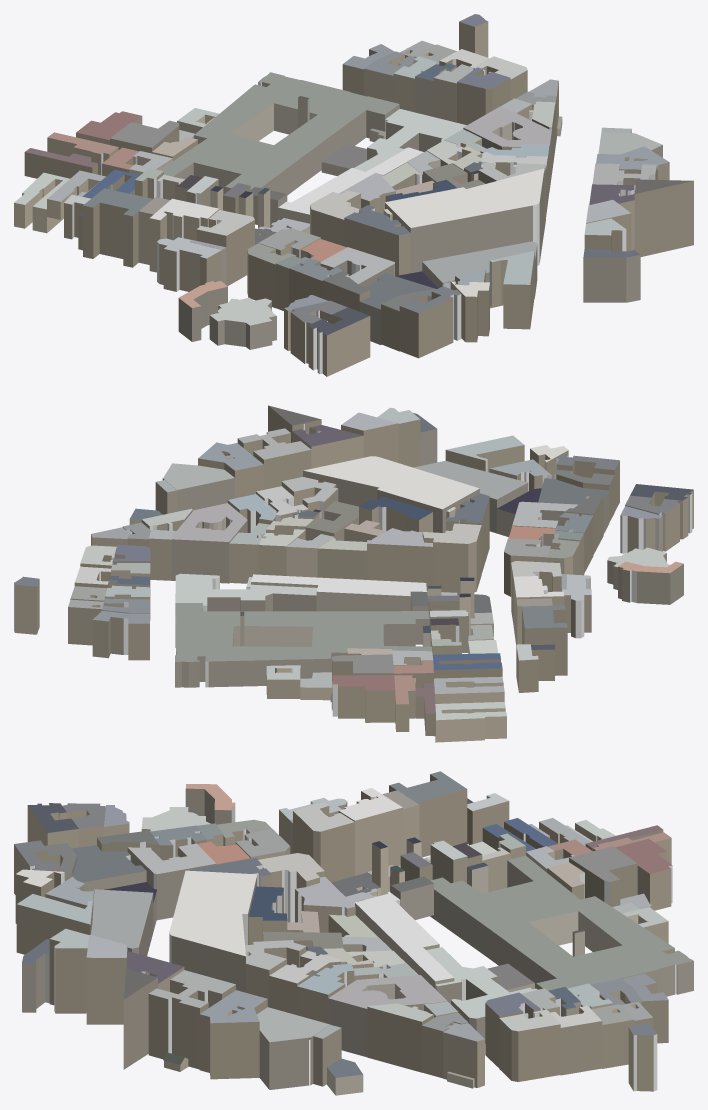
3 renders of one model, top to bottom at view 1: azimuth 30°, elevation 25°; view 2: azimuth 150°, elevation 25°; view 3: azimuth 270°, elevation 25°, orthographic. The views are drawn at different scales.
Parts seen in each view (by area): view 1: tuile; view 2: tuile; view 3: tuile.
Boxes of the visible parts, x1,y1,x2,y2 form: tuile: [14, 14, 693, 376]; tuile: [14, 405, 693, 742]; tuile: [14, 771, 693, 1095].
Size of the model in its own units: 264 by 42.31 by 276.
